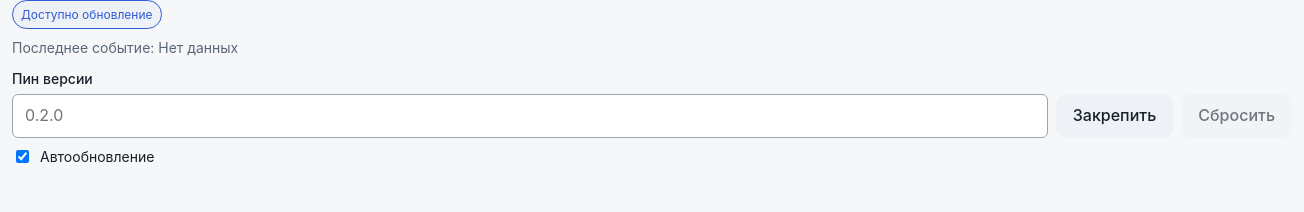
Test: RunnerUpdateCell › shows the API error when the policy update is rejected
The image size is (1304, 212).
Type "not-a-version" into the field labelled "Пин версии" at (530, 116), box [12,94,1048,138]
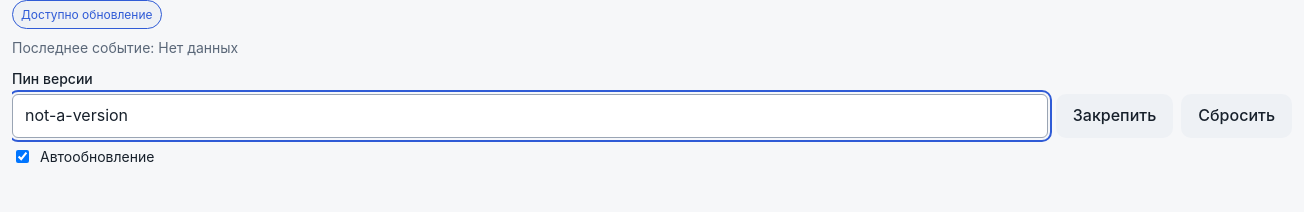
Click the button "Закрепить" at (1115, 116), box [1056,94,1173,138]
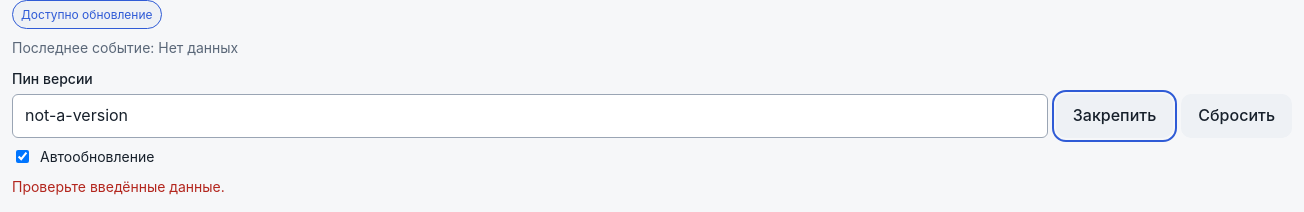
Expected: the message reads "Проверьте введённые данные.", [12,178,225,195]
